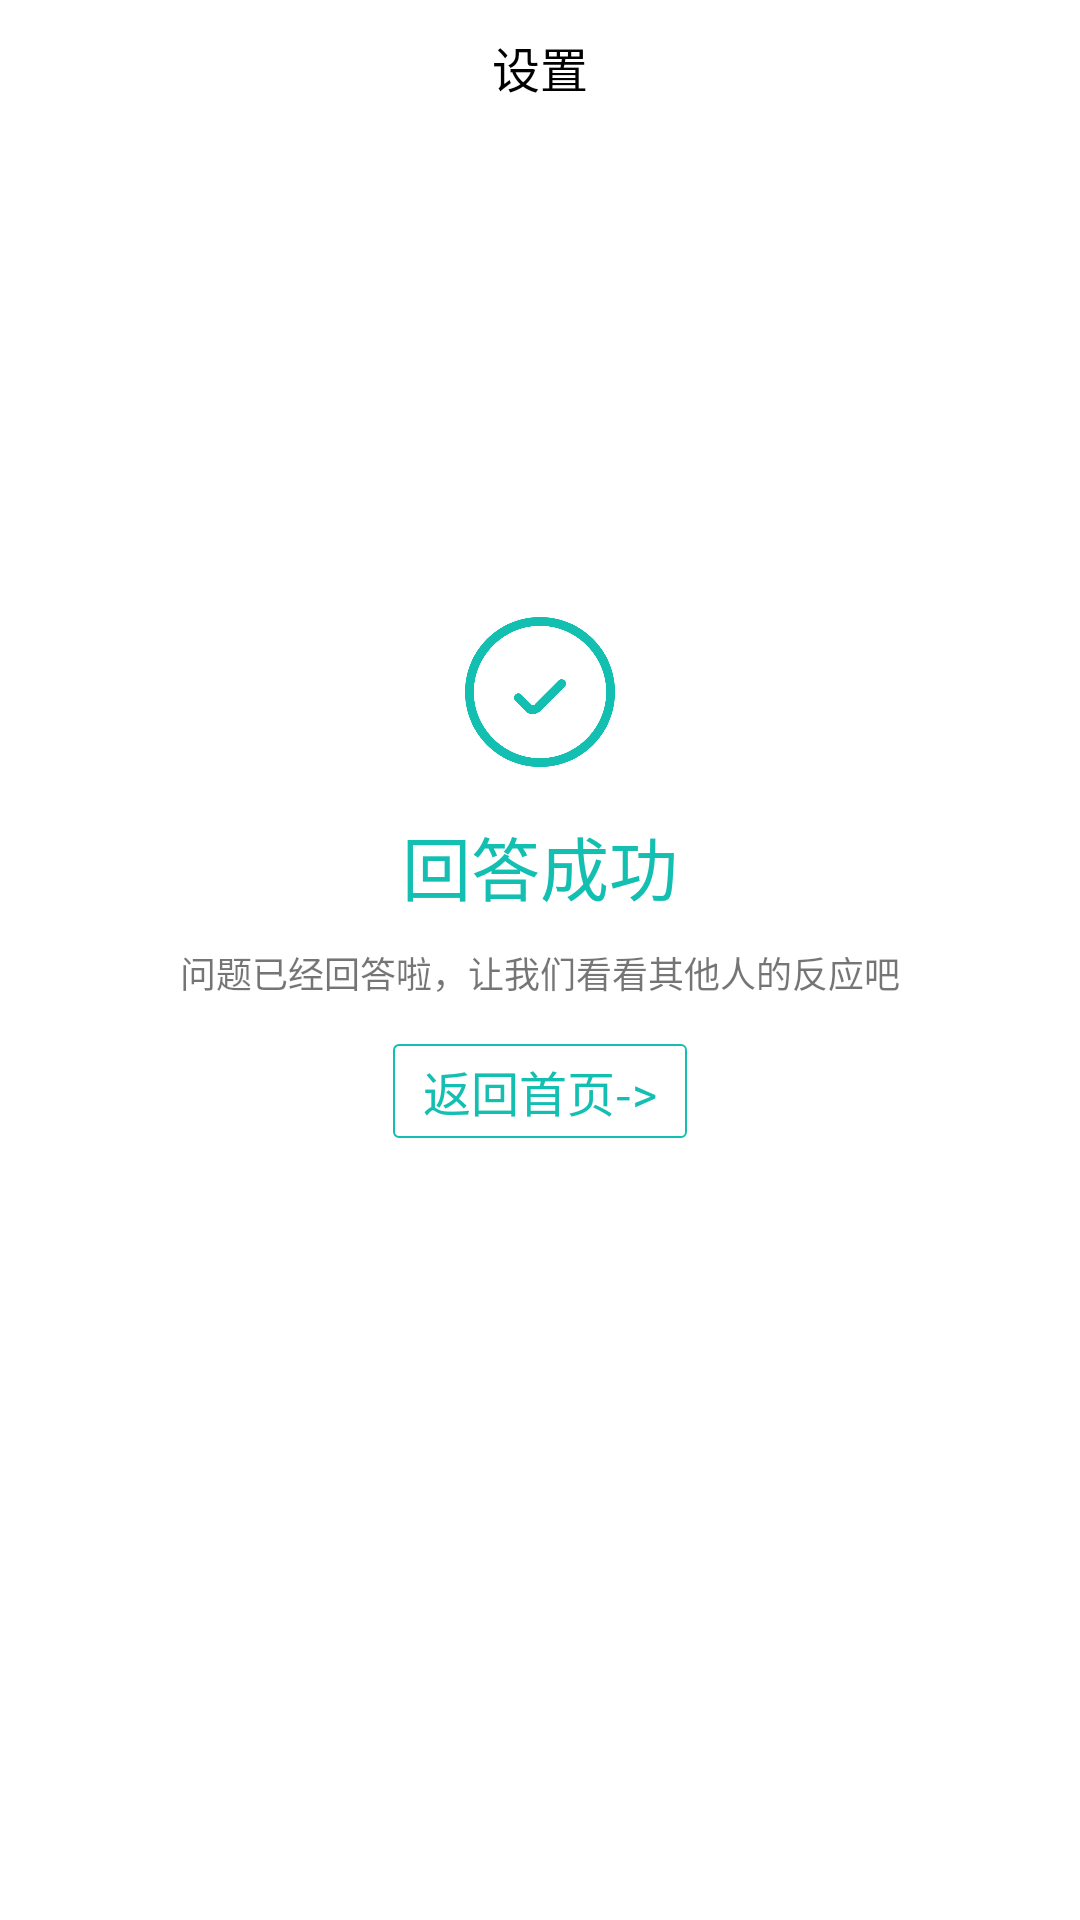

Where icons sit on this 1080*1920 app screen, as {"left": x1, "top": y1, "right": x2, "bottom": y2}:
circle choose: {"left": 465, "top": 617, "right": 615, "bottom": 767}
